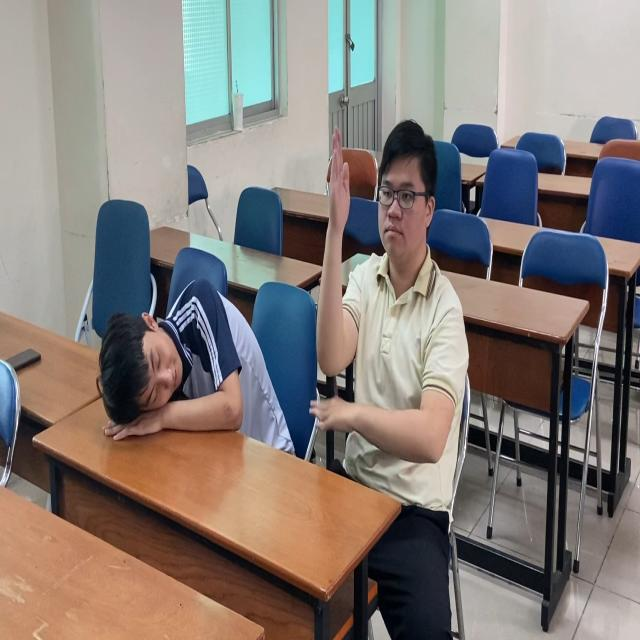raise_hand: (316, 118, 465, 522)
sleep: (90, 274, 295, 459)
